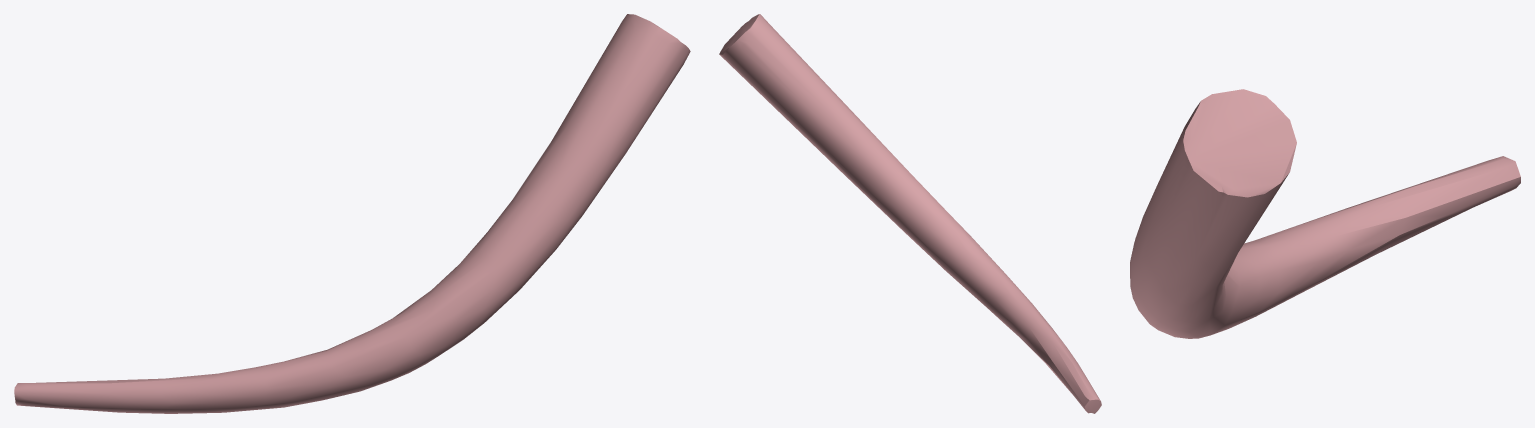
Rendered from fma68321_fj6538.glb.
3 views of the same model, side by side, from view 1: azimuth 30°, elevation 25°; view 2: azimuth 150°, elevation 25°; view 3: azimuth 270°, elevation 25° (orthographic). The views are drawn at different scales.
Visible parts, largest first — view 1: FMA68321_FJ6538; view 2: FMA68321_FJ6538; view 3: FMA68321_FJ6538.
Boxes of the visible parts, box(x1,y1,x2,y2) form: FMA68321_FJ6538: box(14, 14, 690, 413); FMA68321_FJ6538: box(719, 14, 1101, 413); FMA68321_FJ6538: box(1130, 89, 1520, 338).
Size of the model in its own units: 0.0707 by 0.0376 by 0.027.
